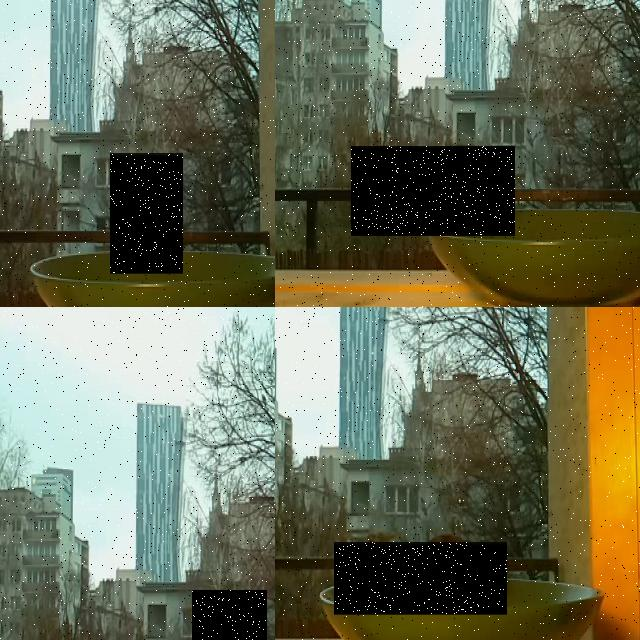Bogatka: (334, 542, 507, 614)
Wrobel: (351, 146, 515, 236), (110, 154, 183, 274), (192, 590, 267, 640)
